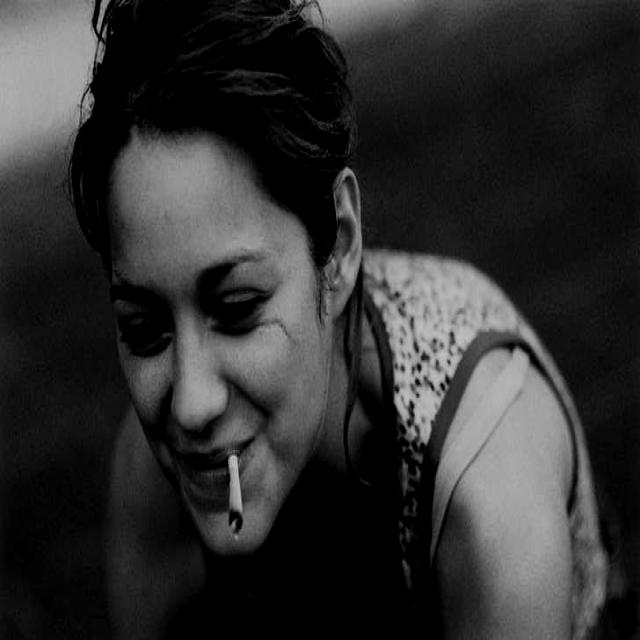Smooking: (214, 439, 256, 549)
